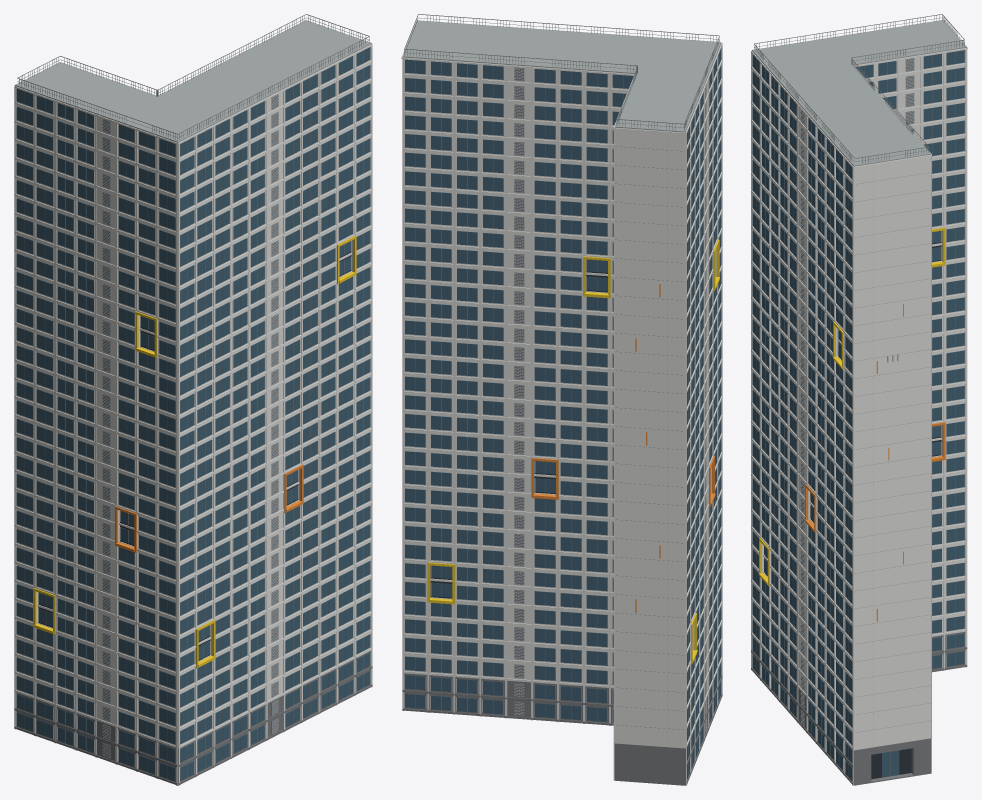
Rendered from bespoke-songpa-helio-city-111.glb.
3 views of the same model, side by side, from view 1: azimuth 30°, elevation 25°; view 2: azimuth 150°, elevation 25°; view 3: azimuth 270°, elevation 25° (orthographic). The views are drawn at different scales.
Parts seen in each view (by area): view 1: Helio111_editable_Helio111_dark_blue_grey_glazing, Helio111_editable_Helio111_white_slab_frames, Helio111_editable_Helio111_grey_service_grille, Helio111_editable_Helio111_low_roof_deck, Helio111_editable_Helio111_dark_grey_twofloor_base, Helio111_editable_Helio111_blankwall_grey_panels, Helio111_editable_Helio111_yellow_projecting_rectangular_fra, Helio111_editable_Helio111_orange_narrow_accent; view 2: Helio111_editable_Helio111_white_slab_frames, Helio111_editable_Helio111_dark_blue_grey_glazing, Helio111_editable_Helio111_grey_service_grille, Helio111_editable_Helio111_low_roof_deck, Helio111_editable_Helio111_dark_grey_twofloor_base, Helio111_editable_Helio111_blankwall_grey_panels, Helio111_editable_Helio111_yellow_projecting_rectangular_fra, Helio111_editable_Helio111_orange_narrow_accent; view 3: Helio111_editable_Helio111_white_slab_frames, Helio111_editable_Helio111_dark_blue_grey_glazing, Helio111_editable_Helio111_low_roof_deck, Helio111_editable_Helio111_grey_service_grille, Helio111_editable_Helio111_dark_grey_twofloor_base, Helio111_editable_Helio111_blankwall_grey_panels, Helio111_editable_Helio111_yellow_projecting_rectangular_fra, Helio111_editable_Helio111_deep_shaded_frame_recess, Helio111_editable_Helio111_orange_narrow_accent.
Boxes of the visible parts, x1,y1,x2,y2 form: Helio111_editable_Helio111_dark_blue_grey_glazing: (16, 47, 370, 781); Helio111_editable_Helio111_white_slab_frames: (14, 43, 372, 785); Helio111_editable_Helio111_grey_service_grille: (17, 14, 369, 778); Helio111_editable_Helio111_low_roof_deck: (15, 20, 371, 142); Helio111_editable_Helio111_dark_grey_twofloor_base: (14, 651, 372, 785); Helio111_editable_Helio111_blankwall_grey_panels: (102, 94, 278, 757); Helio111_editable_Helio111_yellow_projecting_rectangular_fra: (33, 235, 356, 668); Helio111_editable_Helio111_orange_narrow_accent: (115, 464, 303, 552); Helio111_editable_Helio111_white_slab_frames: (401, 21, 722, 785); Helio111_editable_Helio111_dark_blue_grey_glazing: (405, 48, 721, 778); Helio111_editable_Helio111_grey_service_grille: (404, 14, 719, 776); Helio111_editable_Helio111_low_roof_deck: (402, 20, 721, 132); Helio111_editable_Helio111_dark_grey_twofloor_base: (402, 673, 722, 785); Helio111_editable_Helio111_blankwall_grey_panels: (514, 68, 707, 746); Helio111_editable_Helio111_yellow_projecting_rectangular_fra: (427, 239, 719, 664); Helio111_editable_Helio111_orange_narrow_accent: (531, 283, 715, 612); Helio111_editable_Helio111_white_slab_frames: (751, 21, 967, 785); Helio111_editable_Helio111_dark_blue_grey_glazing: (752, 50, 964, 780); Helio111_editable_Helio111_low_roof_deck: (752, 20, 966, 166); Helio111_editable_Helio111_grey_service_grille: (754, 14, 964, 776); Helio111_editable_Helio111_dark_grey_twofloor_base: (751, 632, 967, 785); Helio111_editable_Helio111_blankwall_grey_panels: (801, 58, 913, 746); Helio111_editable_Helio111_yellow_projecting_rectangular_fra: (758, 227, 945, 586); Helio111_editable_Helio111_deep_shaded_frame_recess: (764, 242, 941, 779); Helio111_editable_Helio111_orange_narrow_accent: (805, 304, 945, 621).
Size of the model in its own units: 49.84 by 99.2 by 31.1.
